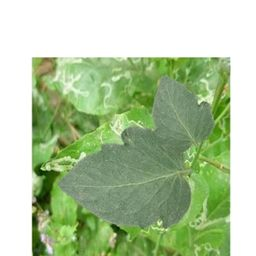liriomyza: (189, 192, 230, 231), (52, 69, 90, 97), (41, 150, 86, 173), (196, 76, 216, 106), (140, 218, 169, 235), (193, 241, 221, 256), (108, 114, 124, 138), (100, 81, 112, 110)
